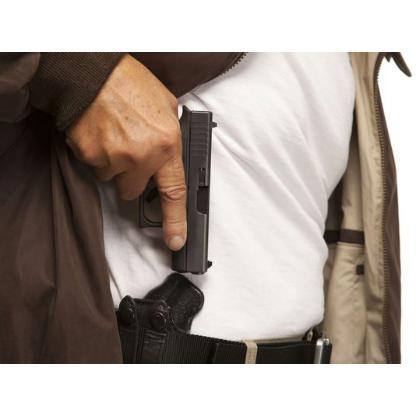gun: (102, 105, 218, 275)
